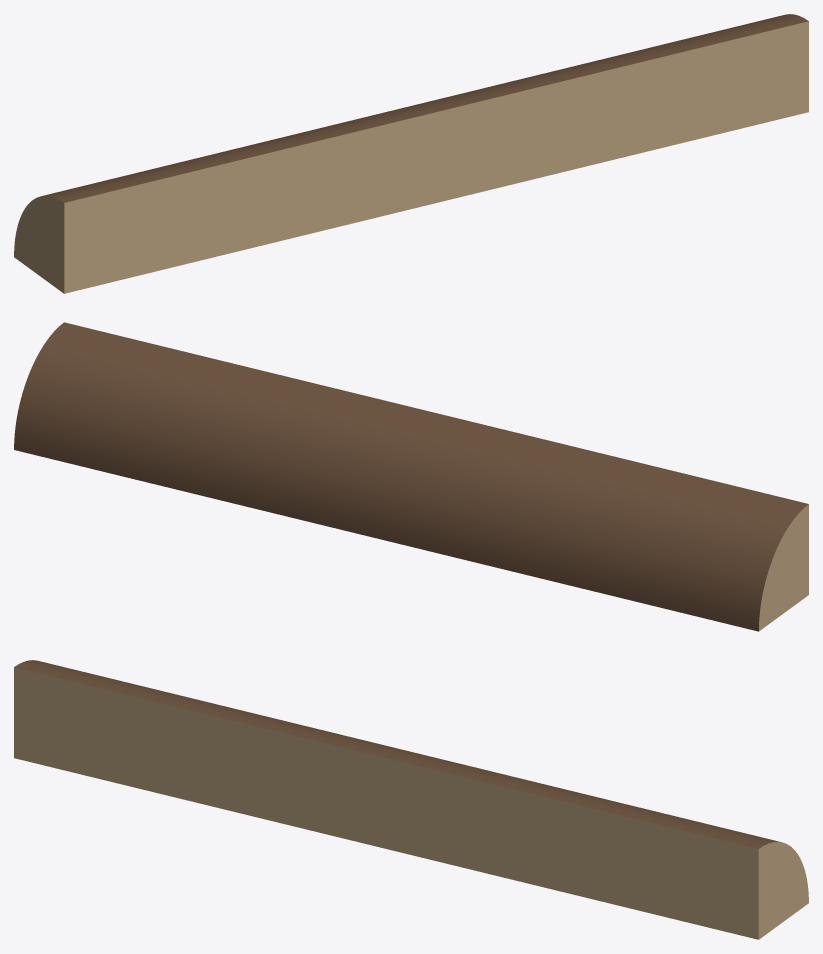
Rendered from SM_RawLog_150_Quarter_04.fbx.
3 renders of one model, top to bottom at view 1: azimuth 30°, elevation 25°; view 2: azimuth 150°, elevation 25°; view 3: azimuth 330°, elevation 25°, orthographic.
Parts seen in each view (by area): view 1: RawLog_150_Quarter_04; view 2: RawLog_150_Quarter_04; view 3: RawLog_150_Quarter_04.
Boxes of the visible parts, bbox=[...] form: RawLog_150_Quarter_04: bbox=[14, 14, 808, 293]; RawLog_150_Quarter_04: bbox=[14, 322, 808, 631]; RawLog_150_Quarter_04: bbox=[14, 660, 808, 939].
Size of what is drawn, in the model's own units: 1.5 by 0.175 by 0.175.
